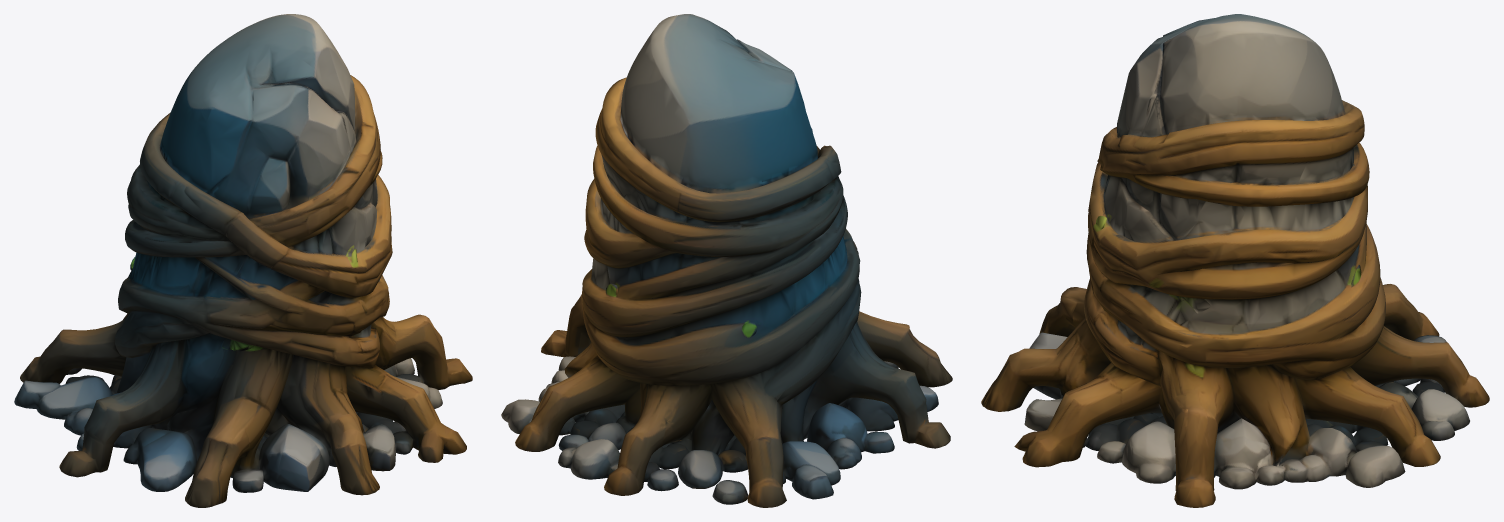
Rendered from roots2.glb.
3 renders of one model, left to right at view 1: azimuth 30°, elevation 25°; view 2: azimuth 150°, elevation 25°; view 3: azimuth 270°, elevation 25°, orthographic. The views are drawn at different scales.
Visible parts, largest first — view 1: node_0; view 2: node_0; view 3: node_0.
Part boxes in pixels (box(x1,y1,x2,y2)): node_0: box(14, 14, 472, 507); node_0: box(501, 14, 952, 507); node_0: box(981, 14, 1489, 507).
Bounding box in the file's own units: 0.8878 × 0.79 × 0.89.
1 material, 1 textured.
